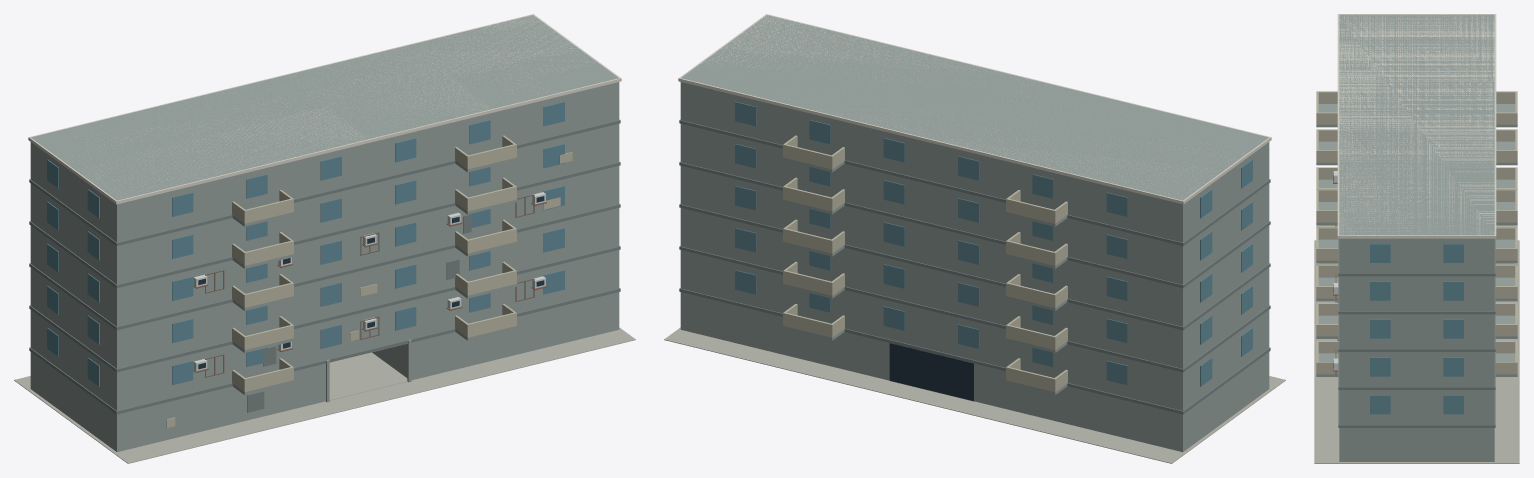
3 renders of one model, left to right at view 1: azimuth 30°, elevation 25°; view 2: azimuth 150°, elevation 25°; view 3: azimuth 270°, elevation 25°, orthographic. The views are drawn at different scales.
Parts seen in each view (by area): view 1: HK-LOW-02-concrete, HK-LOW-02-glazing, HK-LOW-02-patch, HK-LOW-02-faded, HK-LOW-02-stone, HK-LOW-02-ivory, HK-LOW-02-rust, HK-LOW-02-white; view 2: HK-LOW-02-concrete, HK-LOW-02-glazing, HK-LOW-02-faded, HK-LOW-02-patch, HK-LOW-02-stone, HK-LOW-02-ivory, HK-LOW-02-dark; view 3: HK-LOW-02-concrete, HK-LOW-02-ivory, HK-LOW-02-faded, HK-LOW-02-stone, HK-LOW-02-glazing, HK-LOW-02-patch.
Part boxes in pixels (x1,y1,x2,y2): HK-LOW-02-concrete: [30, 15, 619, 452]; HK-LOW-02-glazing: [47, 101, 564, 386]; HK-LOW-02-patch: [29, 119, 620, 414]; HK-LOW-02-faded: [166, 135, 572, 427]; HK-LOW-02-stone: [14, 327, 635, 463]; HK-LOW-02-ivory: [28, 14, 621, 360]; HK-LOW-02-rust: [193, 194, 546, 377]; HK-LOW-02-white: [193, 192, 545, 371]; HK-LOW-02-concrete: [680, 15, 1269, 452]; HK-LOW-02-glazing: [735, 101, 1252, 386]; HK-LOW-02-faded: [783, 135, 1067, 392]; HK-LOW-02-patch: [679, 119, 1270, 414]; HK-LOW-02-stone: [664, 327, 1285, 463]; HK-LOW-02-ivory: [678, 14, 1271, 363]; HK-LOW-02-dark: [889, 343, 973, 401]; HK-LOW-02-concrete: [1316, 14, 1517, 461]; HK-LOW-02-ivory: [1337, 14, 1496, 238]; HK-LOW-02-faded: [1316, 91, 1517, 374]; HK-LOW-02-stone: [1314, 240, 1519, 463]; HK-LOW-02-glazing: [1370, 244, 1463, 414]; HK-LOW-02-patch: [1338, 238, 1495, 427].
Size of the model in its own units: 36 by 17.1 by 14.
